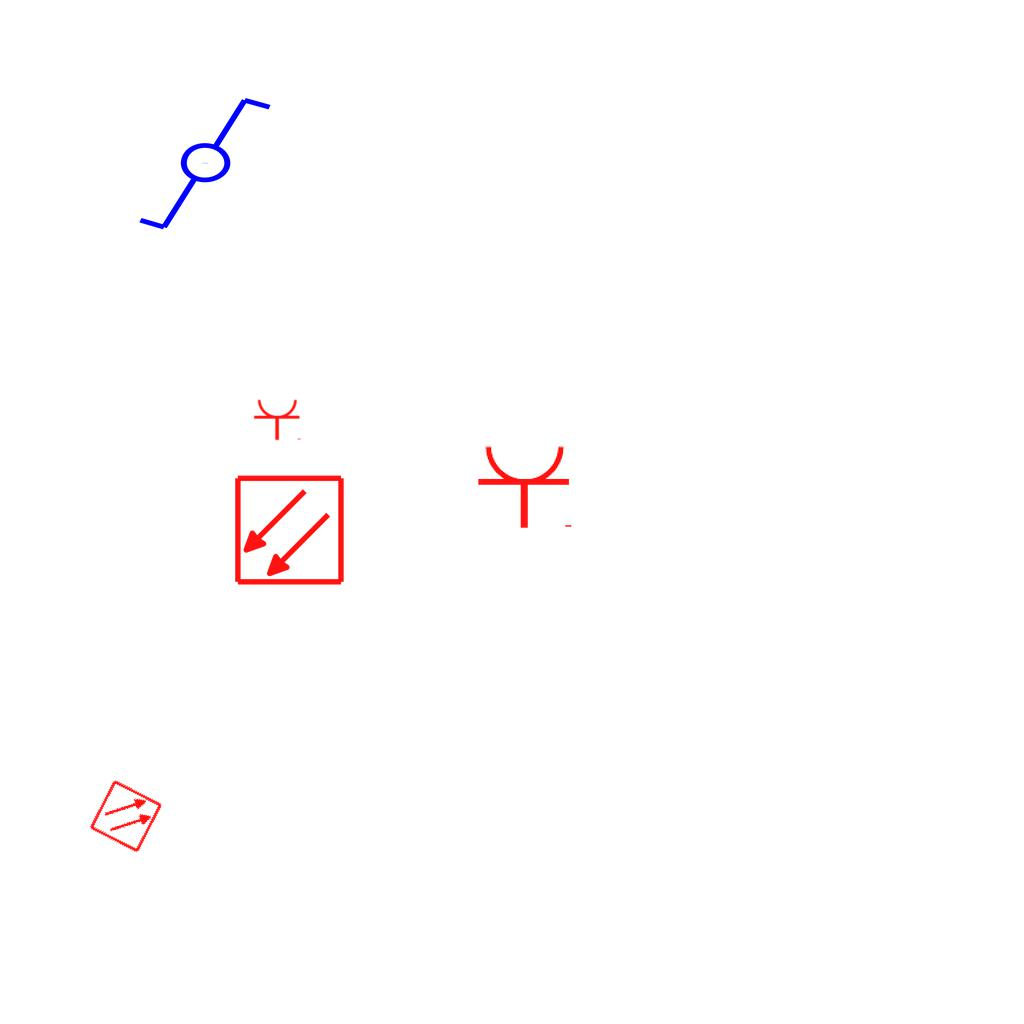RMO_Rauchmelder_optischer: (233, 474, 346, 587), (88, 778, 164, 854)
Schukosteckdose_einfach: (476, 443, 576, 530), (253, 398, 303, 441)
Wechselschalter: (135, 93, 292, 237)
